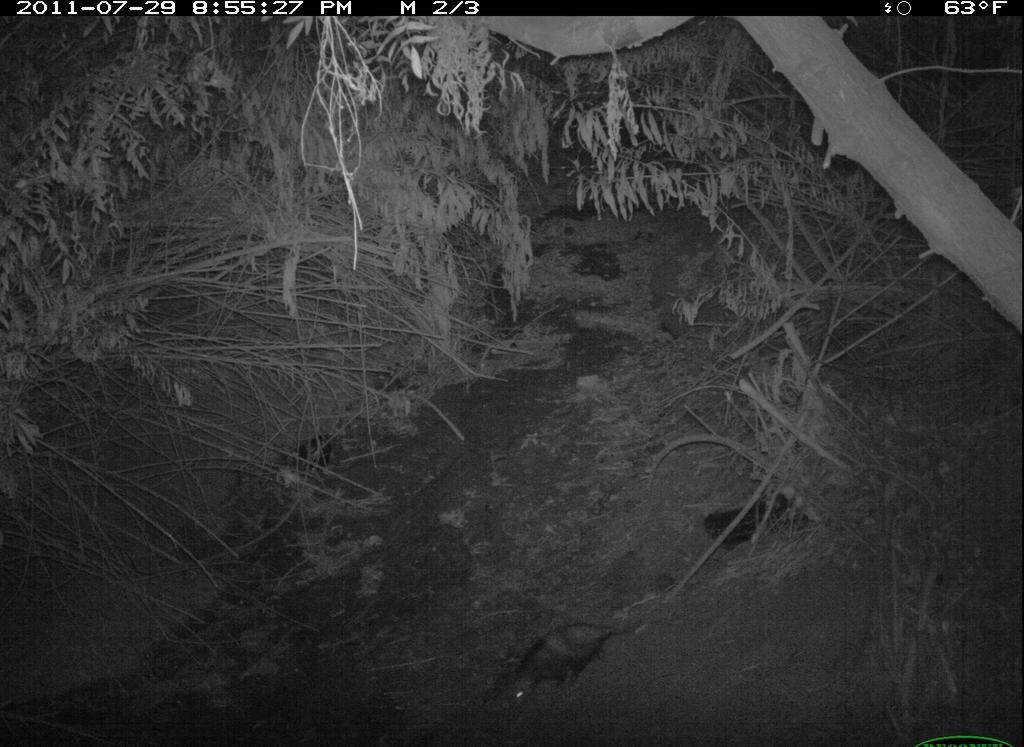opossum: (486, 607, 656, 720)
